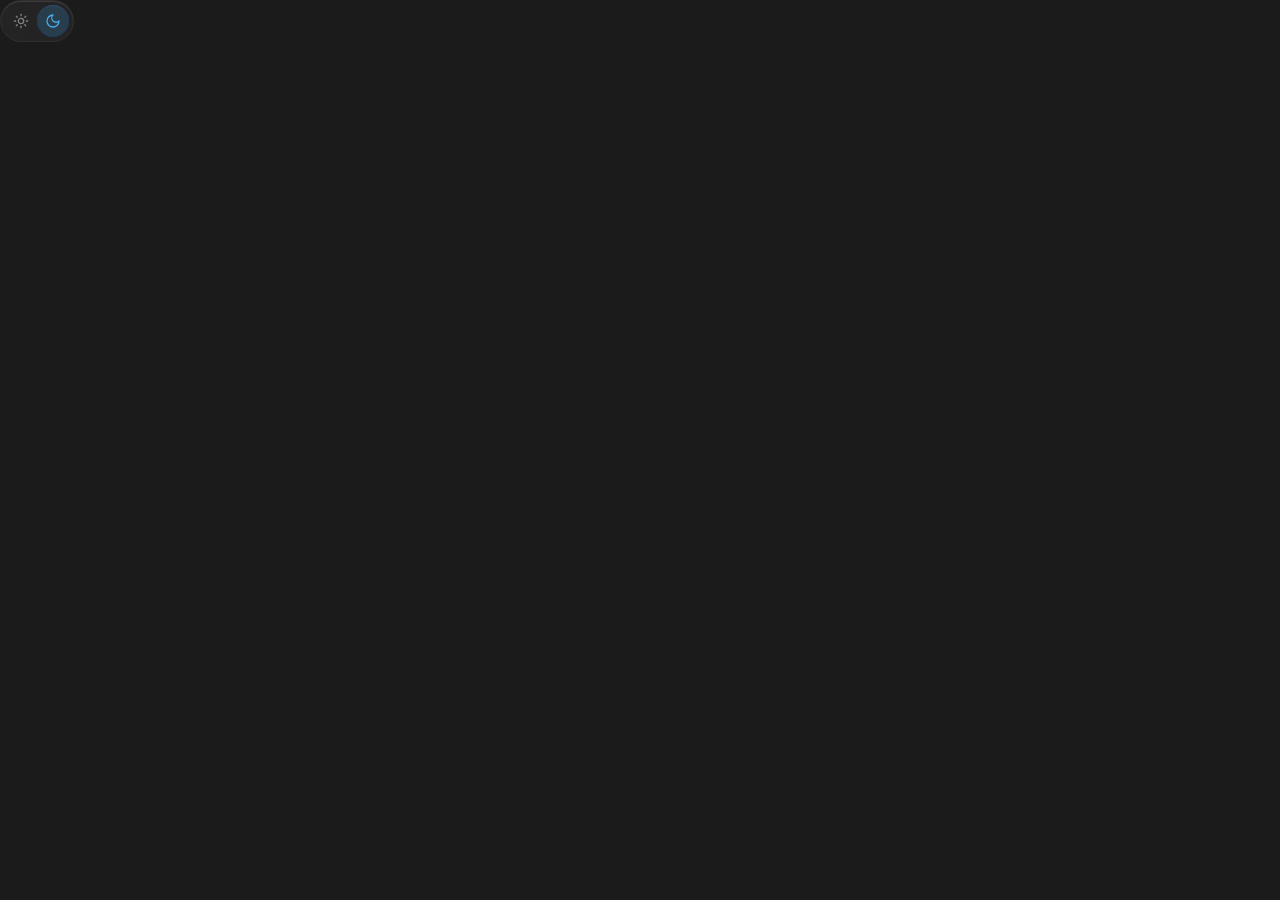
Test: ThemeSwitch & Theme Persistence › toggles between dark and light mode, updates data-theme, meta theme-color, and localStorage
Expected: the icon with class "is-sun" is shown, [13,13,29,29]
Click the switch named "Switch to light mode".
click(37, 21)  # box [0,0,74,42]
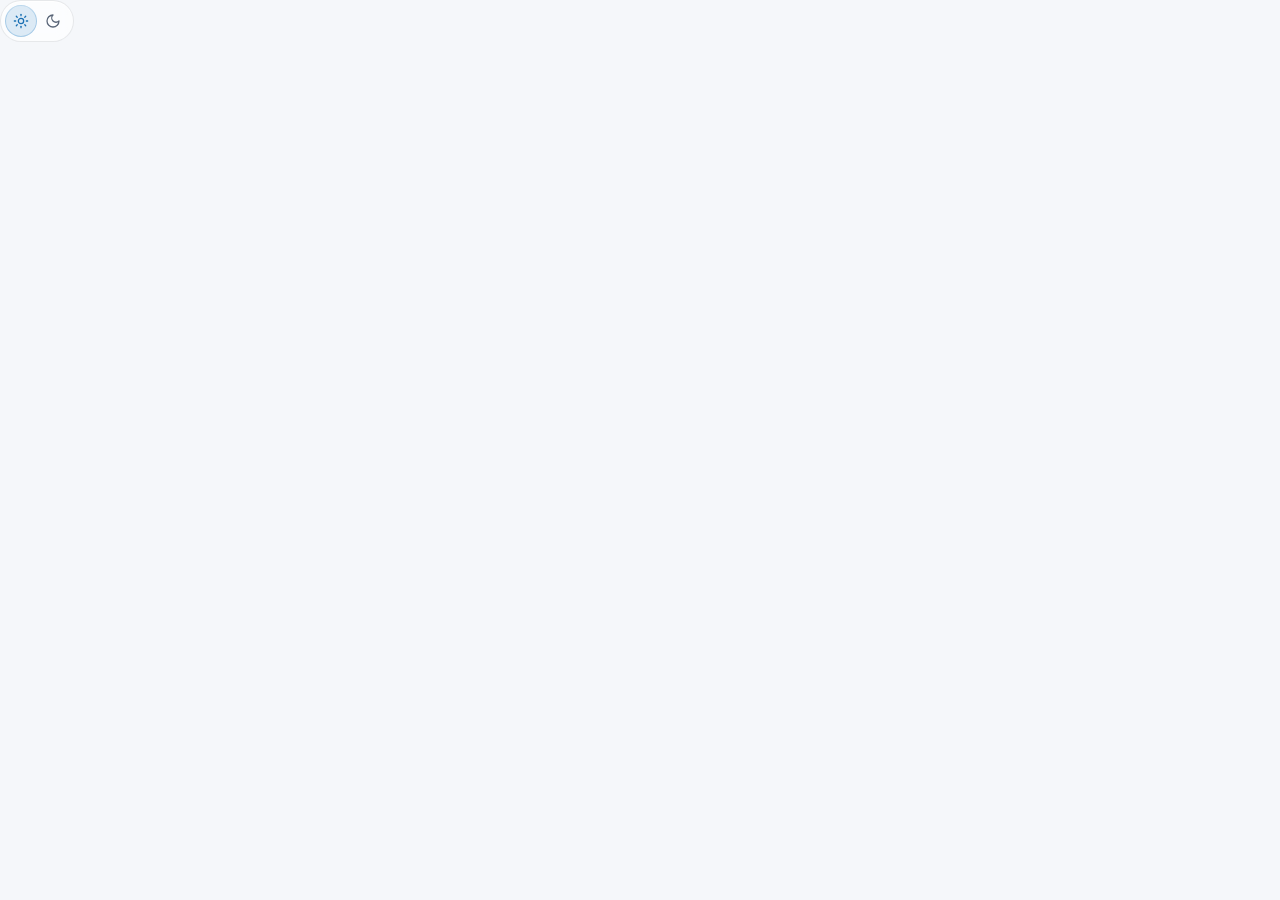
Expected: the switch named "Switch to light mode" is not checked
Expected: the switch named "Switch to light mode" has attribute aria-label="Switch to dark mode"
Expected: the switch named "Switch to light mode" has attribute data-theme-mode="light"
Click the switch named "Switch to light mode".
click(37, 21)  # box [0,0,74,42]
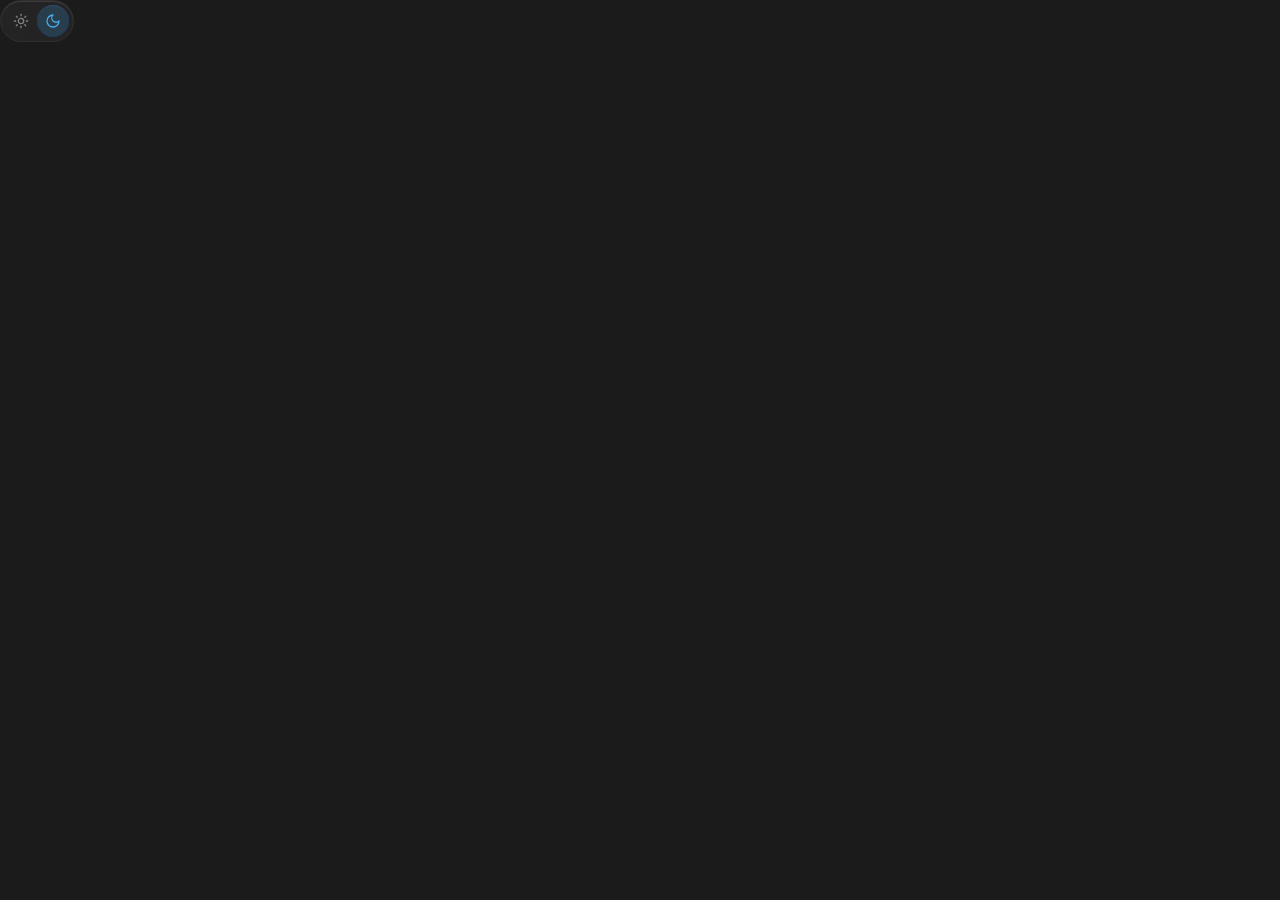
Expected: the switch named "Switch to light mode" is checked, [0,0,74,42]
